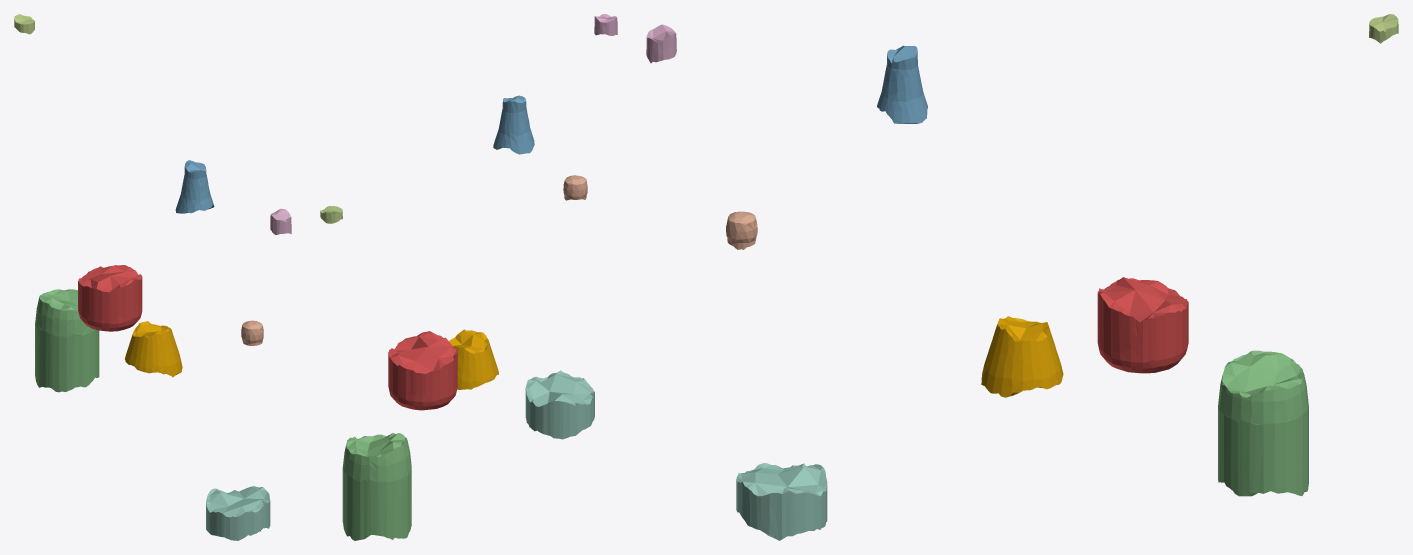
File: fractured_3_8pcs_transformed.glb
3 renders of one model, left to right at view 1: azimuth 30°, elevation 25°; view 2: azimuth 150°, elevation 25°; view 3: azimuth 270°, elevation 25°, orthographic. The views are drawn at different scales.
Visible parts, largest first — view 1: piece_3.obj, piece_1.obj, piece_4.obj, piece_0.obj, piece_2.obj, piece_7.obj, piece_6.obj, piece_5.obj; view 2: piece_3.obj, piece_1.obj, piece_4.obj, piece_0.obj, piece_2.obj, piece_7.obj, piece_6.obj; view 3: piece_3.obj, piece_1.obj, piece_4.obj, piece_0.obj, piece_2.obj, piece_7.obj, piece_6.obj.
Boxes of the visible parts, x1,y1,x2,y2 form: piece_3.obj: [35, 289, 99, 392]; piece_1.obj: [78, 265, 142, 331]; piece_4.obj: [206, 486, 270, 540]; piece_0.obj: [125, 321, 182, 377]; piece_2.obj: [175, 160, 214, 213]; piece_7.obj: [241, 320, 263, 345]; piece_6.obj: [270, 208, 291, 234]; piece_5.obj: [14, 14, 34, 34]; piece_3.obj: [342, 433, 411, 540]; piece_1.obj: [388, 331, 457, 410]; piece_4.obj: [525, 370, 594, 439]; piece_0.obj: [449, 329, 498, 389]; piece_2.obj: [493, 95, 534, 154]; piece_7.obj: [563, 175, 587, 200]; piece_6.obj: [594, 14, 617, 35]; piece_3.obj: [1218, 350, 1308, 496]; piece_1.obj: [1097, 277, 1188, 373]; piece_4.obj: [736, 463, 827, 540]; piece_0.obj: [981, 316, 1063, 397]; piece_2.obj: [877, 45, 927, 123]; piece_7.obj: [726, 211, 757, 249]; piece_6.obj: [646, 24, 676, 63].
Size of the model in its own units: 0.2268 by 1.39 by 1.87.
